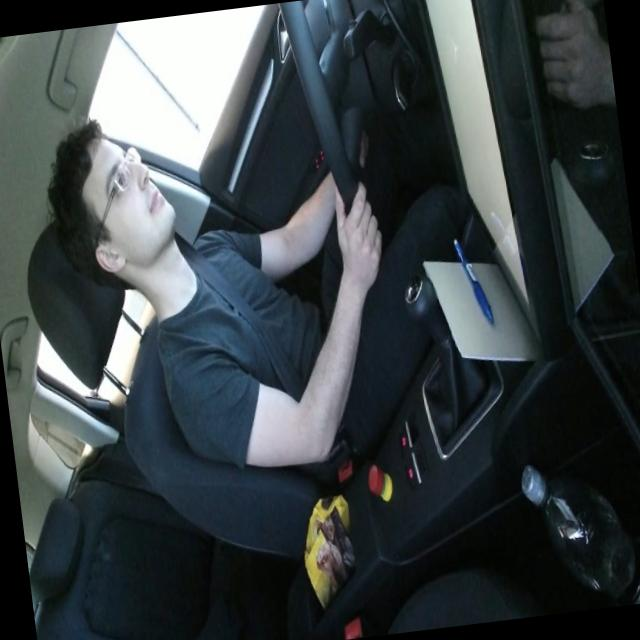pen: (452, 232, 494, 328)
